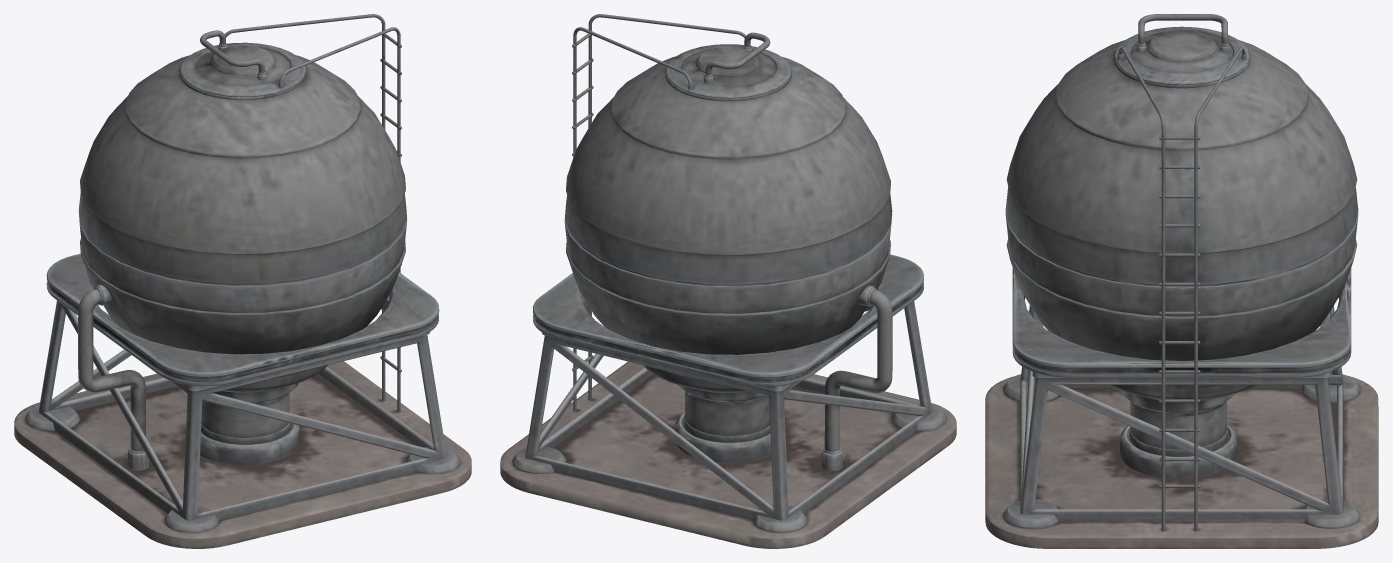
File: water_tank_5.glb
3 renders of one model, left to right at view 1: azimuth 30°, elevation 25°; view 2: azimuth 150°, elevation 25°; view 3: azimuth 270°, elevation 25°, orthographic. The views are drawn at different scales.
Parts seen in each view (by area): view 1: Object_6; view 2: Object_6; view 3: Object_6.
Part boxes in pixels (x1=…): Object_6: x1=14, y1=14, x2=471, y2=548; Object_6: x1=500, y1=14, x2=956, y2=548; Object_6: x1=985, y1=14, x2=1378, y2=548.
Bounding box in the file's own units: 4.05 × 4.9 × 3.98.
Materials: 1 (1 with a texture image).
